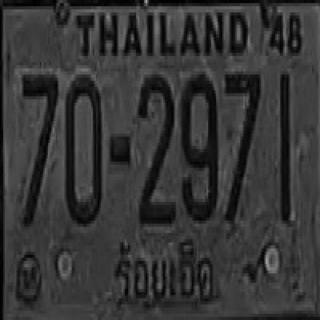N00: (65, 73, 102, 225)
N01: (279, 71, 290, 224)
N02: (138, 71, 174, 224)
N07: (224, 70, 261, 222), (22, 72, 58, 227)
N09: (180, 71, 217, 221)
P54: (111, 236, 220, 310)
